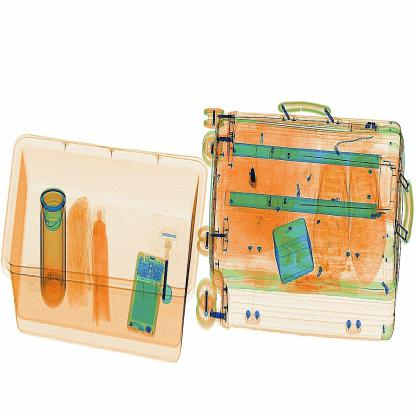wrench: (240, 160, 261, 192)
